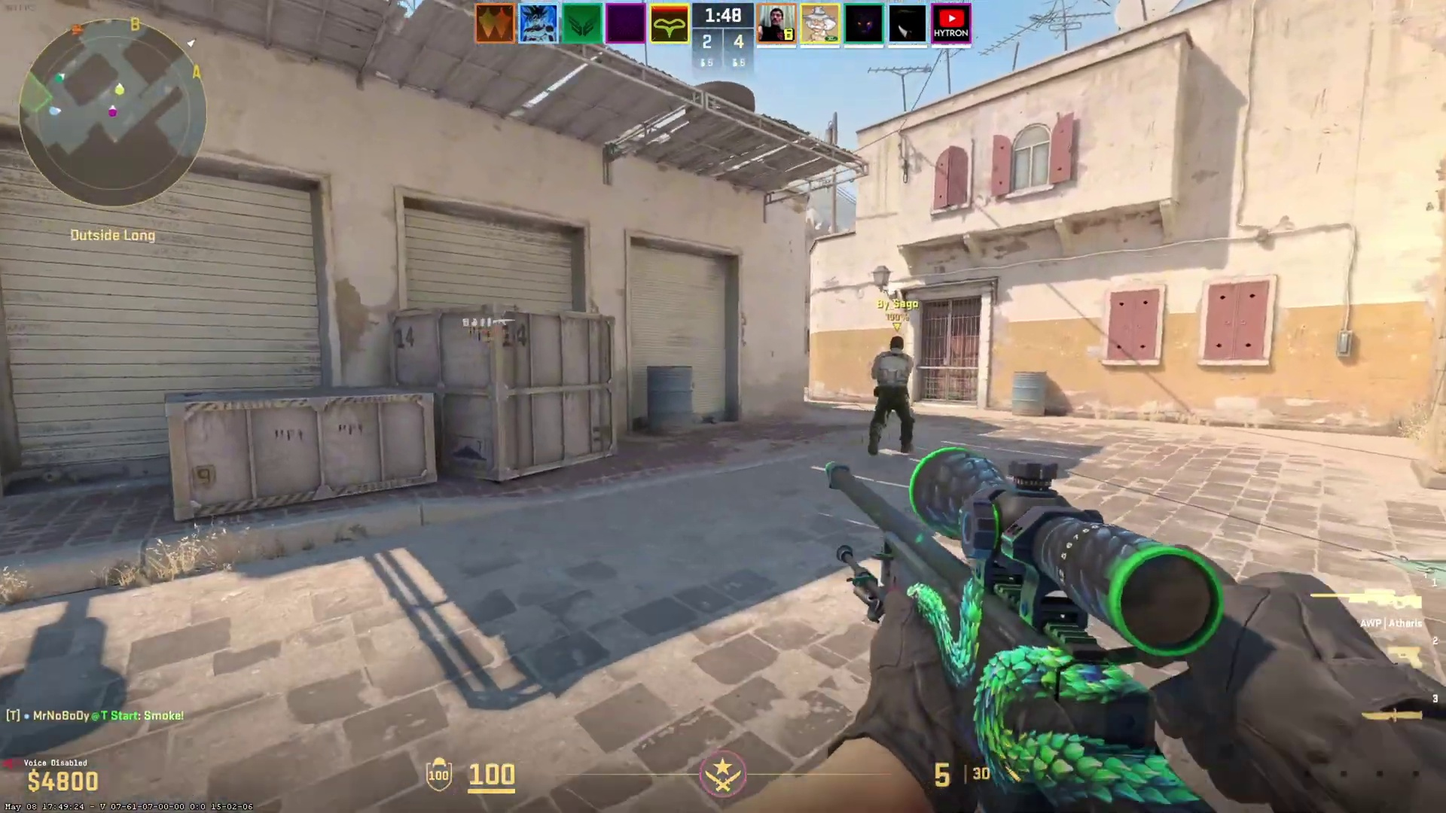Terrorist: (867, 337, 916, 455)
